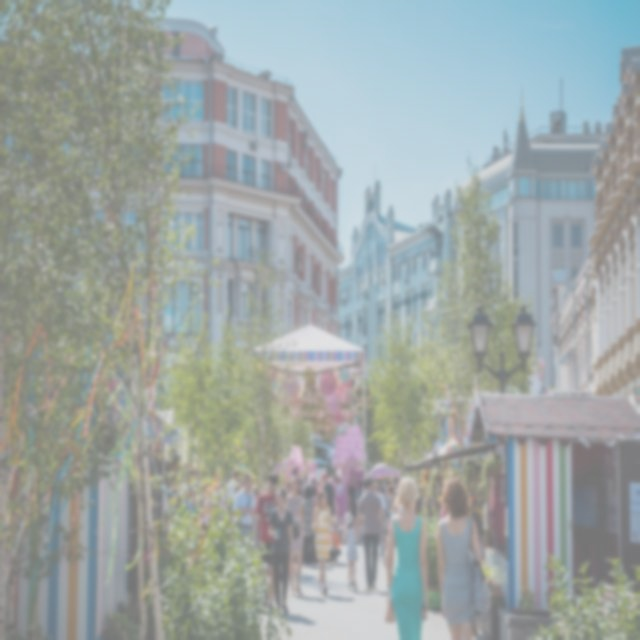pessoa: (436, 476, 496, 640), (380, 474, 430, 640), (163, 470, 228, 556), (354, 474, 386, 594), (253, 470, 279, 614), (310, 488, 342, 598), (268, 486, 294, 616), (232, 472, 256, 558), (286, 477, 302, 597), (414, 480, 446, 521), (342, 512, 359, 586), (373, 482, 386, 562), (302, 484, 314, 568), (250, 484, 262, 559), (320, 472, 336, 516), (356, 479, 366, 544), (297, 472, 322, 498), (384, 484, 394, 544), (226, 470, 242, 506), (348, 476, 358, 526), (230, 482, 242, 522), (388, 488, 400, 520), (328, 472, 343, 494), (383, 475, 401, 488), (234, 479, 246, 497), (296, 478, 304, 500), (285, 481, 292, 494)
